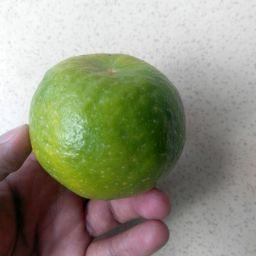Unripe: (27, 54, 188, 201)
